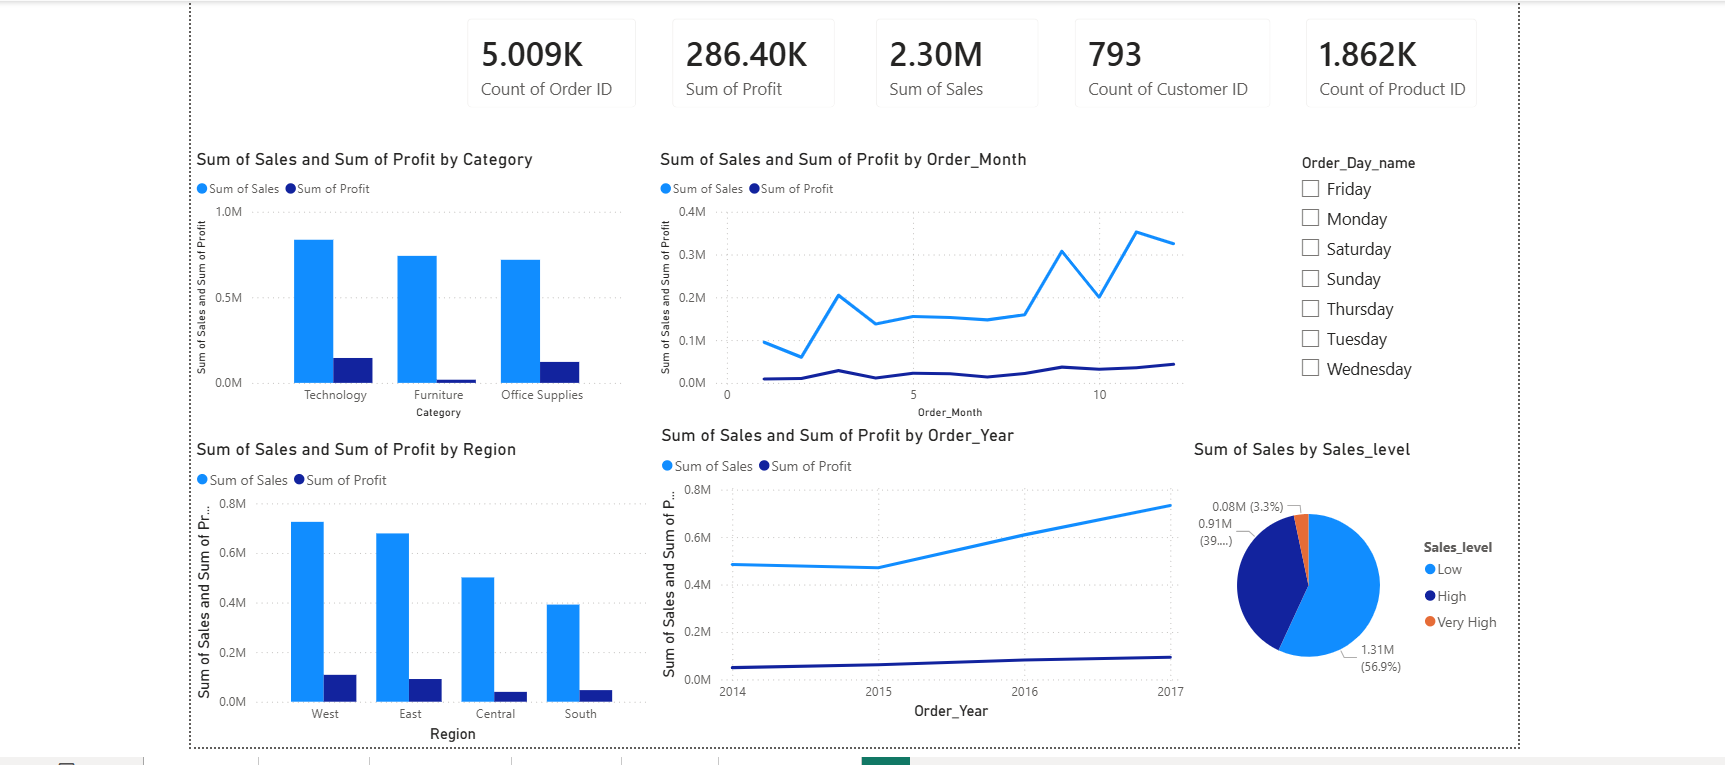

The dashboard page shown, as its layout file describes it:
{"tool":"powerbi","page":{"name":"Overview","canvas":[1280,720],"ordinal":0},"visuals":[{"type":"cardVisual","fields":{"Data":["Count(Cleaned_SuperStore_Sales.Order ID)"]},"box":[249.7,0,197.9,120.6],"z":0},{"type":"cardVisual","fields":{"Data":["Sum(Cleaned_SuperStore_Sales.Sales)"]},"box":[644.2,0,191.8,120.6],"z":1000},{"type":"cardVisual","fields":{"Data":["Sum(Cleaned_SuperStore_Sales.Profit)"]},"box":[447.6,0,191.8,120.6],"z":2000},{"type":"cardVisual","fields":{"Data":["Count(Cleaned_SuperStore_Sales.Customer ID)"]},"box":[836.1,0,223.2,120.6],"z":3000},{"type":"cardVisual","fields":{"Data":["Count(Cleaned_SuperStore_Sales.Product ID)"]},"box":[1059.3,0,199.1,120.6],"z":4000},{"type":"clusteredColumnChart","fields":{"Category":["Cleaned_SuperStore_Sales.Category"],"Y":["Sum(Cleaned_SuperStore_Sales.Sales)","Sum(Cleaned_SuperStore_Sales.Profit)"]},"box":[0,142.7,424,266.2],"z":5000},{"type":"lineChart","fields":{"Category":["Cleaned_SuperStore_Sales.Order_Month"],"Y":["Sum(Cleaned_SuperStore_Sales.Sales)","Sum(Cleaned_SuperStore_Sales.Profit)"]},"box":[447.3,142.7,516,266.2],"z":6000},{"type":"clusteredColumnChart","fields":{"Y":["Sum(Cleaned_SuperStore_Sales.Sales)","Sum(Cleaned_SuperStore_Sales.Profit)"],"Category":["Cleaned_SuperStore_Sales.Region"]},"box":[0,422.6,447.3,297.8],"z":7000},{"type":"lineChart","fields":{"Category":["Cleaned_SuperStore_Sales.Order_Year"],"Y":["Sum(Cleaned_SuperStore_Sales.Sales)","Sum(Cleaned_SuperStore_Sales.Profit)"]},"box":[448.7,408.9,514.6,289.5],"z":8000},{"type":"pieChart","fields":{"Category":["Cleaned_SuperStore_Sales.Sales_level"],"Y":["Sum(Cleaned_SuperStore_Sales.Sales)"]},"box":[963.3,422.6,317,264.8],"z":9000},{"type":"slicer","fields":{"Values":["Cleaned_SuperStore_Sales.Order_Day_name"]},"box":[1059.4,142.7,199,266.2],"z":10000}]}

Visuals, with their boxes on the page's 1280x720 design canvas (x1, y1, x2, y2). These are canvas units, not pixel positions in the 1725x765 screenshot, which may show the page scaled, cropped or inside an application window:
cardVisual - Count(Cleaned_SuperStore_Sales.Order ID): 250, 0, 448, 121
cardVisual - Sum(Cleaned_SuperStore_Sales.Sales): 644, 0, 836, 121
cardVisual - Sum(Cleaned_SuperStore_Sales.Profit): 448, 0, 639, 121
cardVisual - Count(Cleaned_SuperStore_Sales.Customer ID): 836, 0, 1059, 121
cardVisual - Count(Cleaned_SuperStore_Sales.Product ID): 1059, 0, 1258, 121
clusteredColumnChart - Cleaned_SuperStore_Sales.Category x Sum(Cleaned_SuperStore_Sales.Sales): 0, 143, 424, 409
lineChart - Cleaned_SuperStore_Sales.Order_Month x Sum(Cleaned_SuperStore_Sales.Sales): 447, 143, 963, 409
clusteredColumnChart - Sum(Cleaned_SuperStore_Sales.Sales) x Sum(Cleaned_SuperStore_Sales.Profit): 0, 423, 447, 720
lineChart - Cleaned_SuperStore_Sales.Order_Year x Sum(Cleaned_SuperStore_Sales.Sales): 449, 409, 963, 698
pieChart - Cleaned_SuperStore_Sales.Sales_level x Sum(Cleaned_SuperStore_Sales.Sales): 963, 423, 1280, 687
slicer - Cleaned_SuperStore_Sales.Order_Day_name: 1059, 143, 1258, 409
